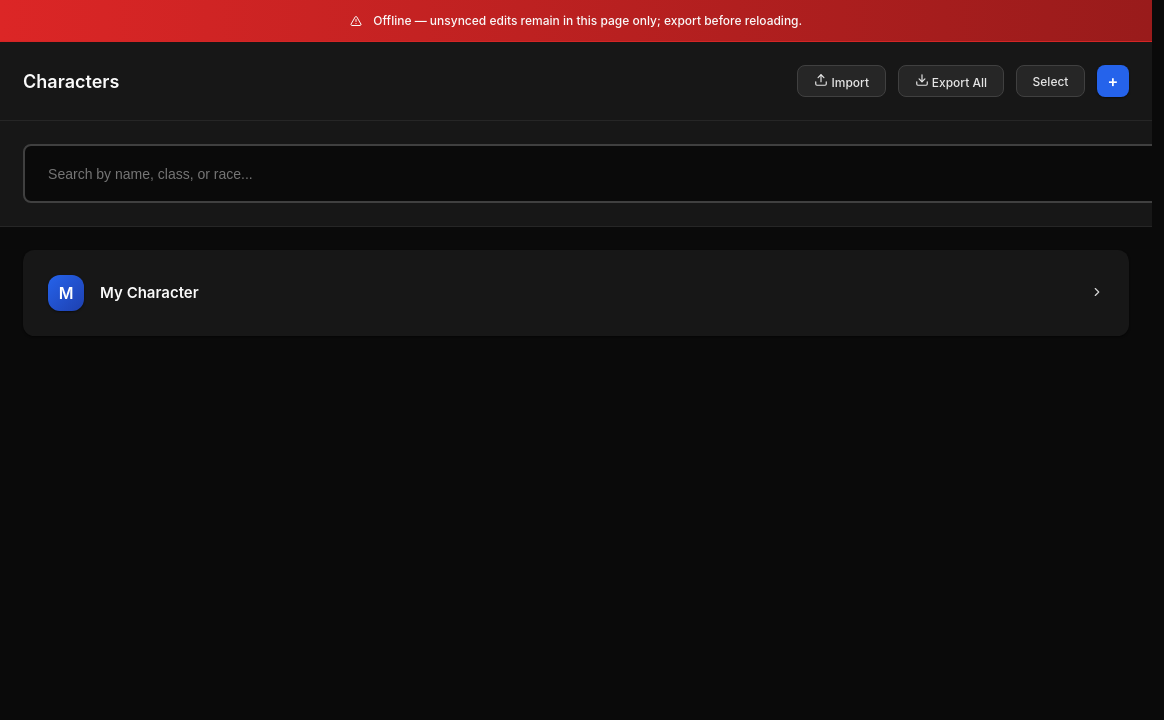
Test: CharacterPanel › Permissions and Ownership › shows delete button for owned characters
This screenshot has width=1164, height=720.
Expand owned character by clicking the expand button
Click the button with aria-label "expand my character" at (66, 293), box [25,252,1127,334]
(page scrolled)
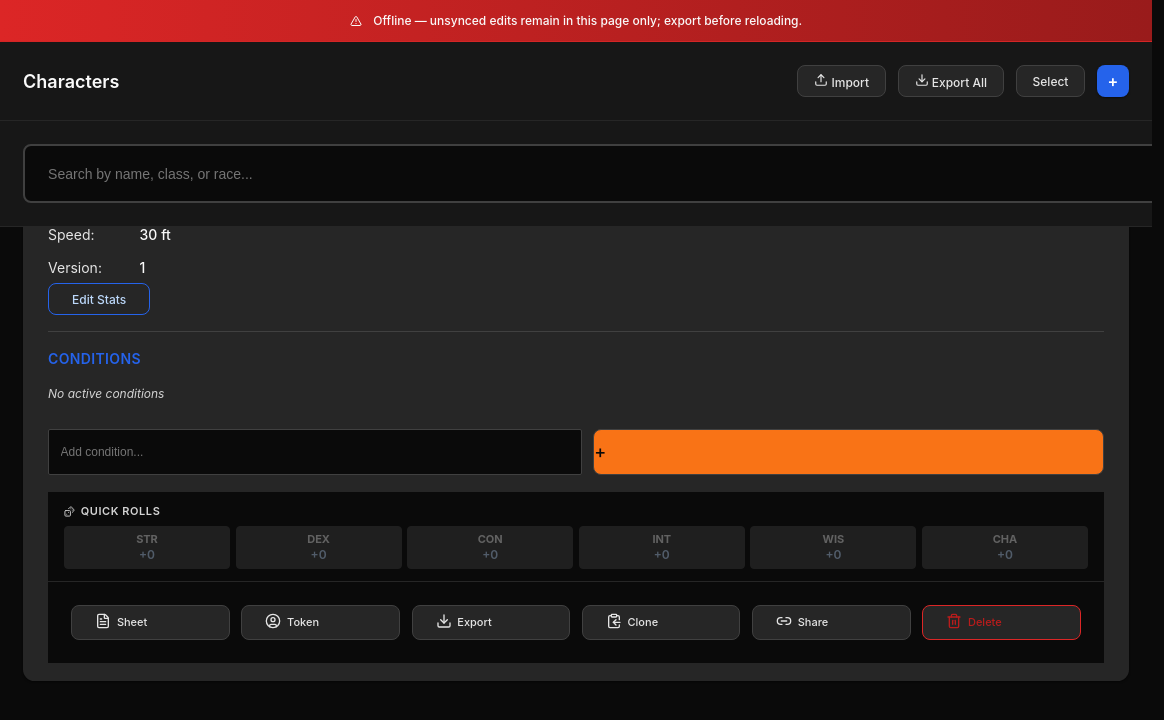
Result: the button "Delete" is enabled at [922,605,1081,640]
